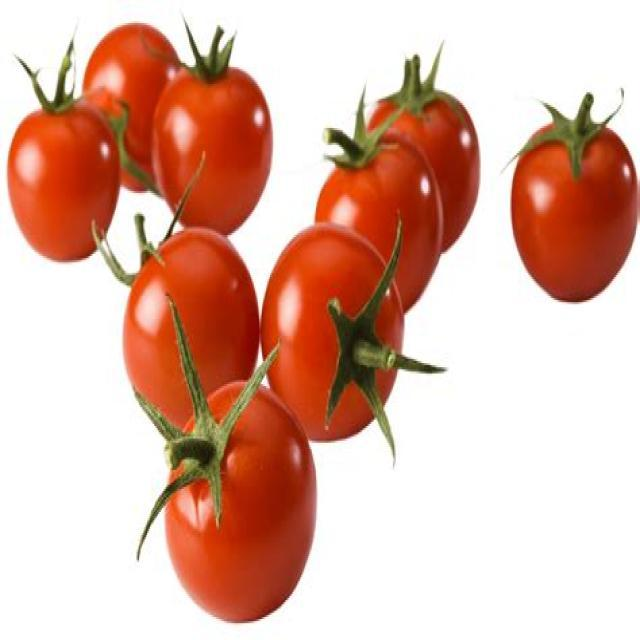Tomato: (164, 390, 310, 621), (126, 239, 259, 489), (261, 225, 386, 444), (509, 97, 640, 305), (315, 141, 444, 312), (152, 68, 274, 238), (1, 96, 124, 262), (79, 25, 187, 192), (382, 96, 480, 252)
